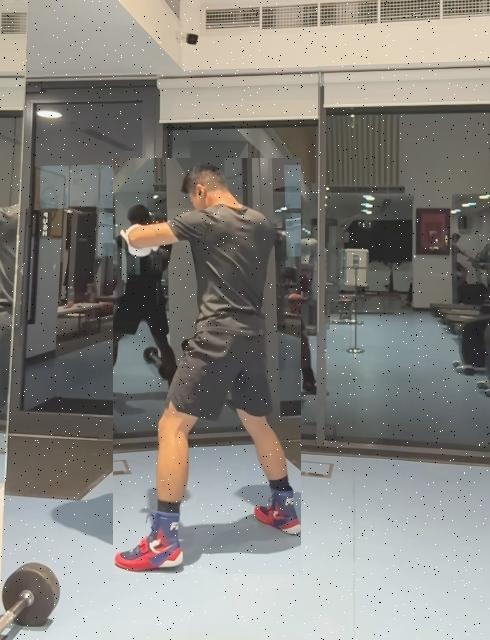punch: (113, 158, 301, 574)
